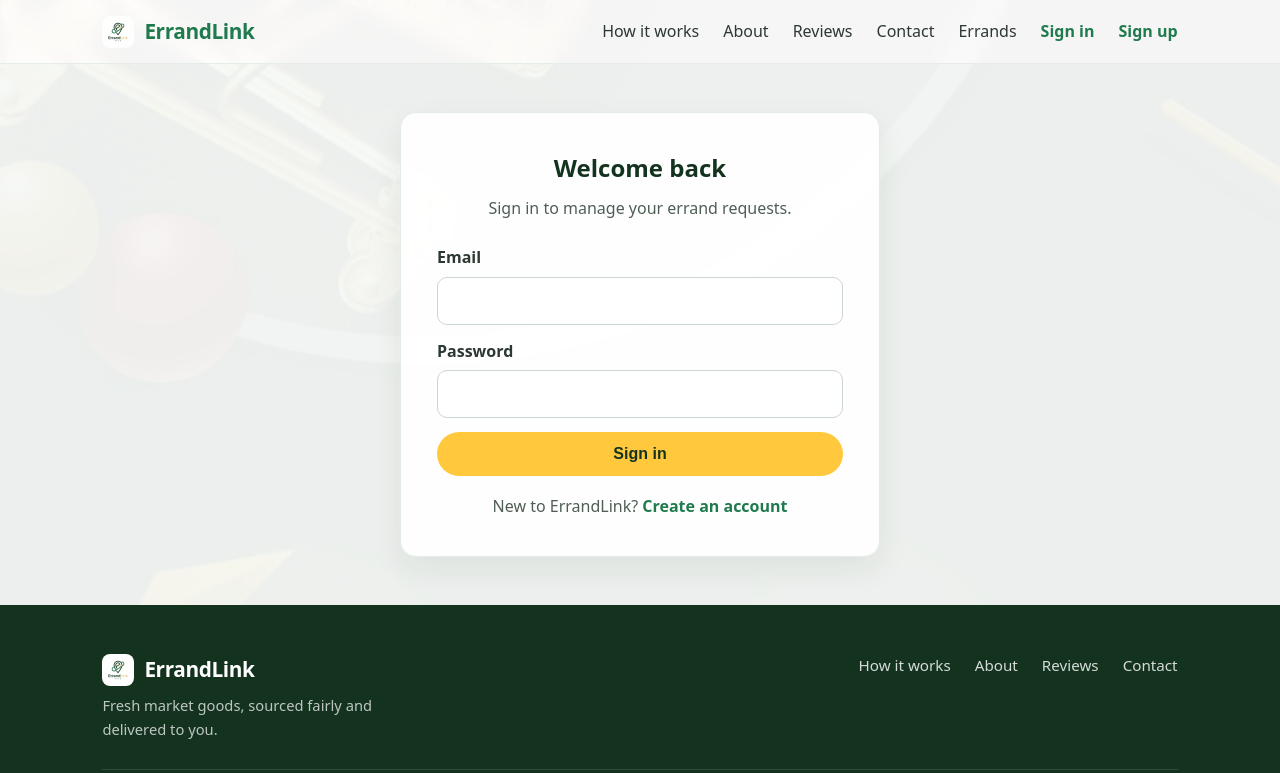
authentication › switches to registration
Step 1. Click the link "Create an account" → (715, 506), box [642,495,787,517]
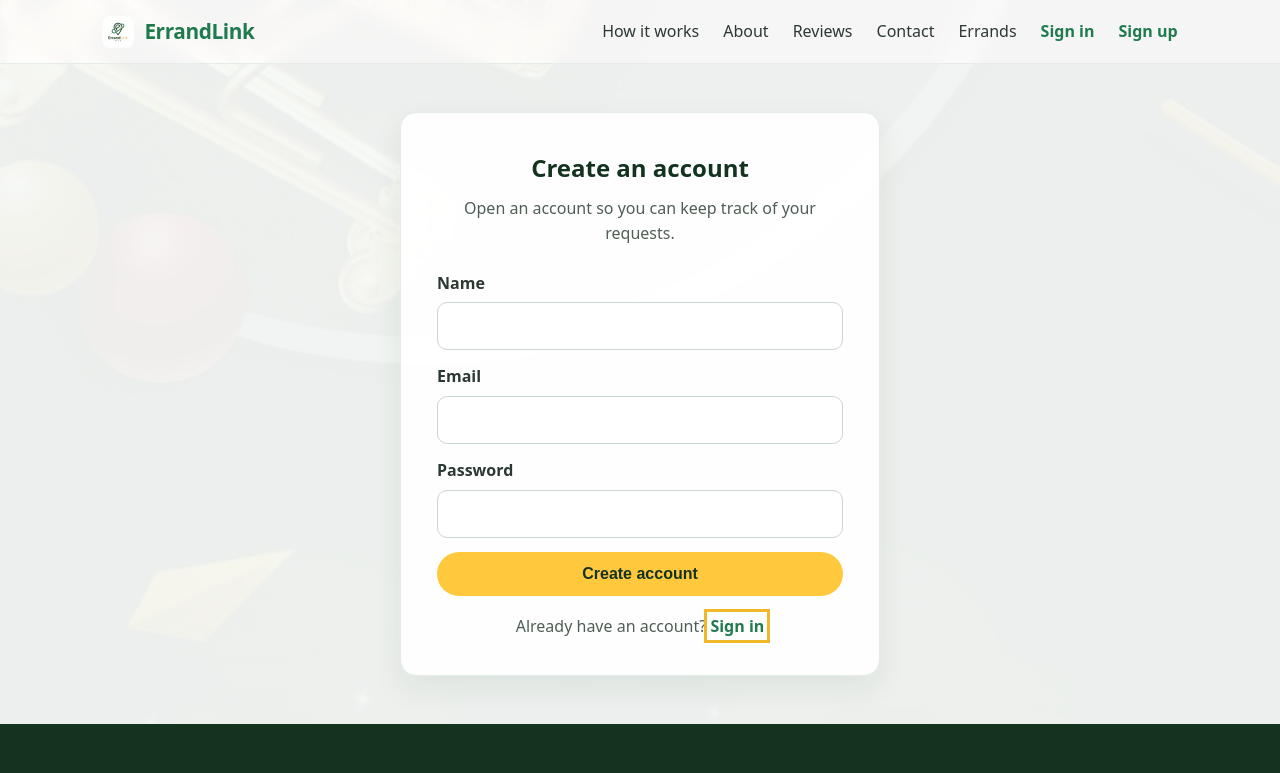
Now the heading "Create an account" is shown, box [531,151,749,184]
